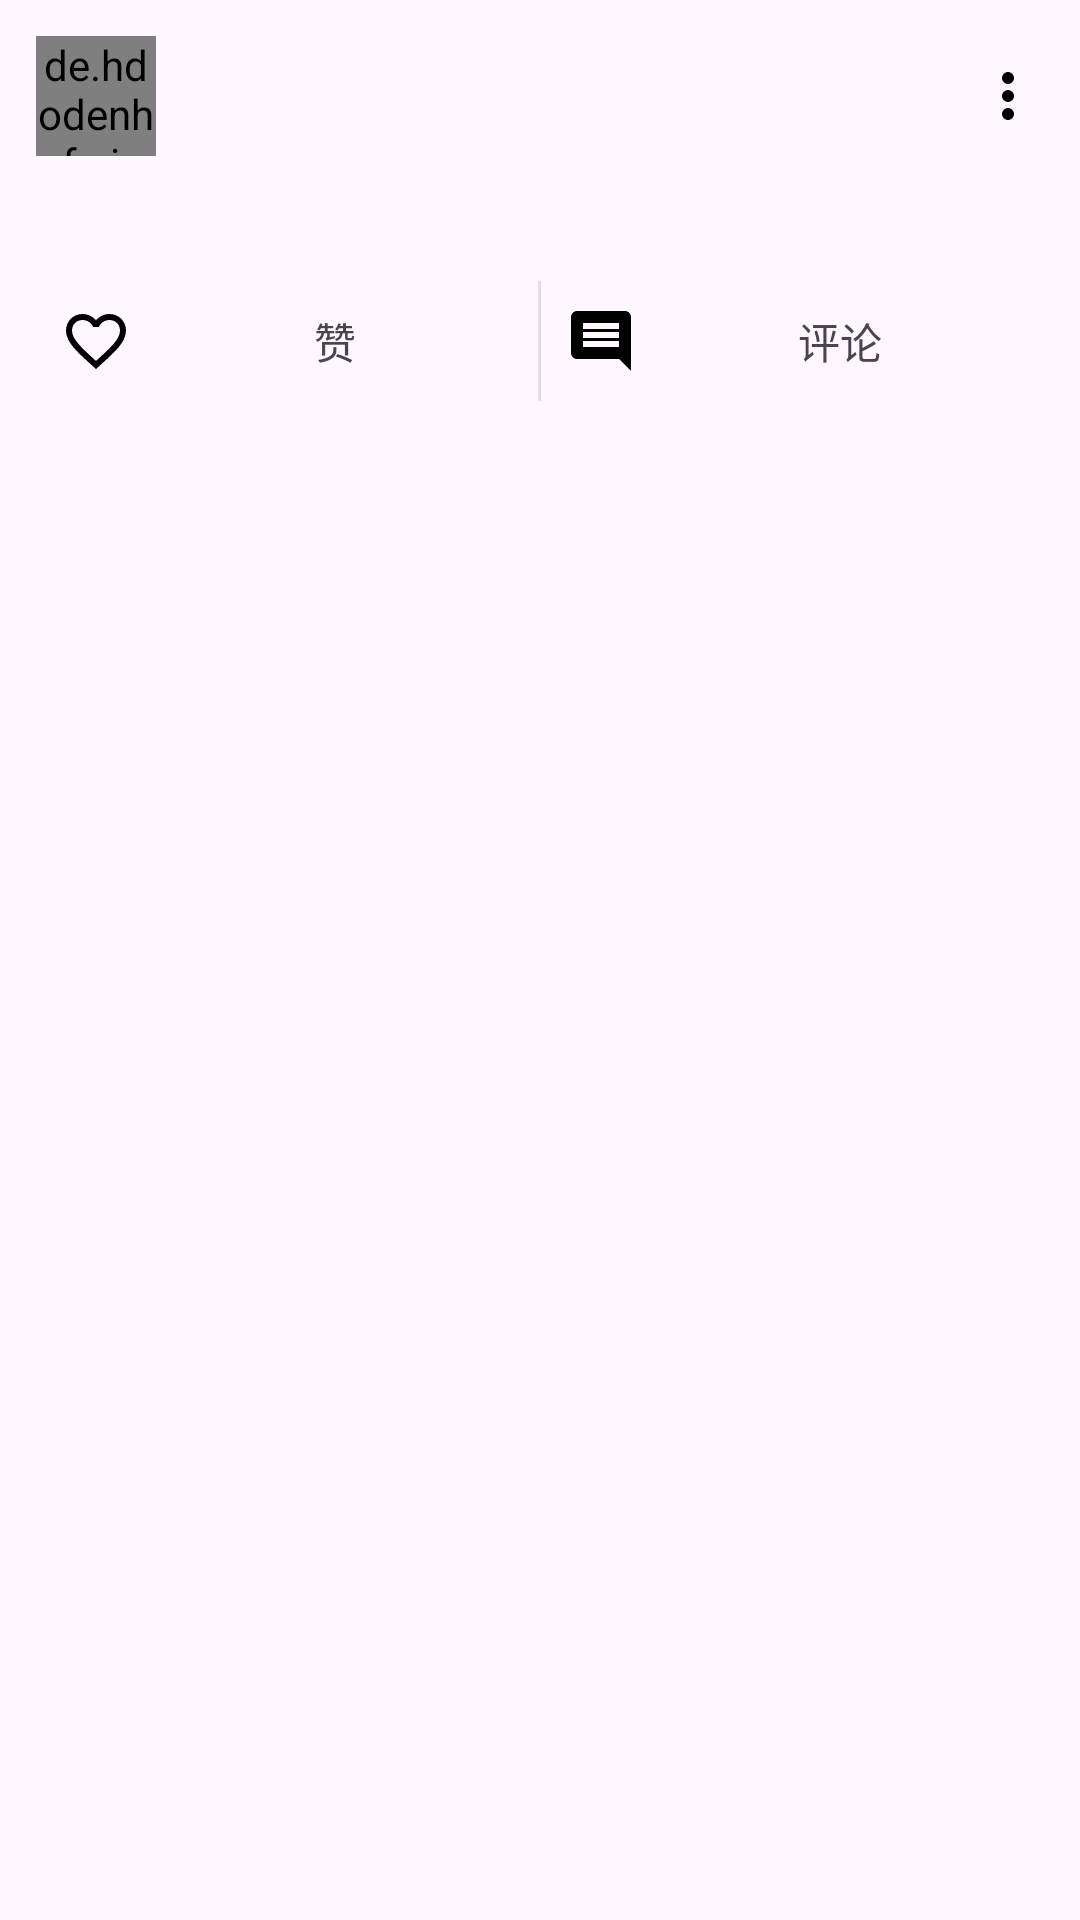

Where icons sit on this 1080×1920 app screen, as region(x1, y1, x2, y2):
more vert: region(1002, 72, 1014, 120)
